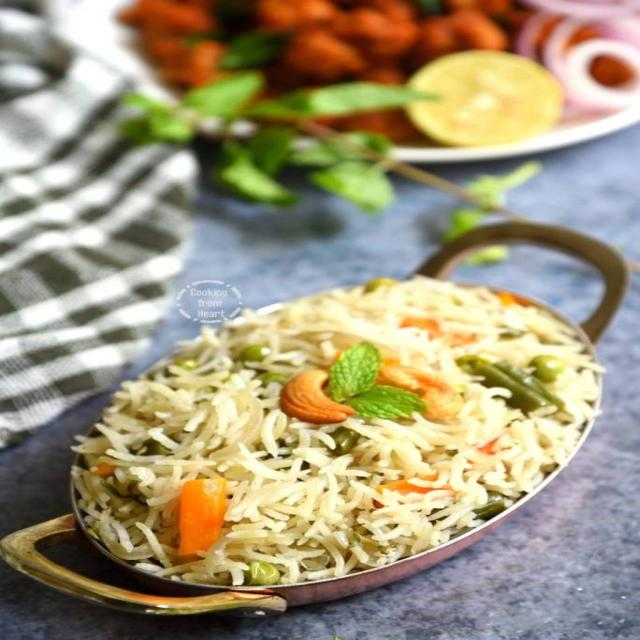veg palav: (50, 258, 638, 622)
